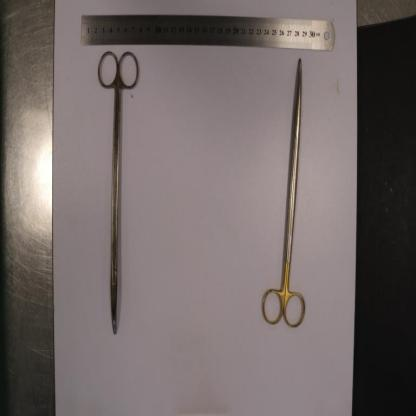7 Metzenbaum Scissors: (261, 59, 307, 329)
9 Metzenbaum Scissors: (96, 50, 141, 336)
